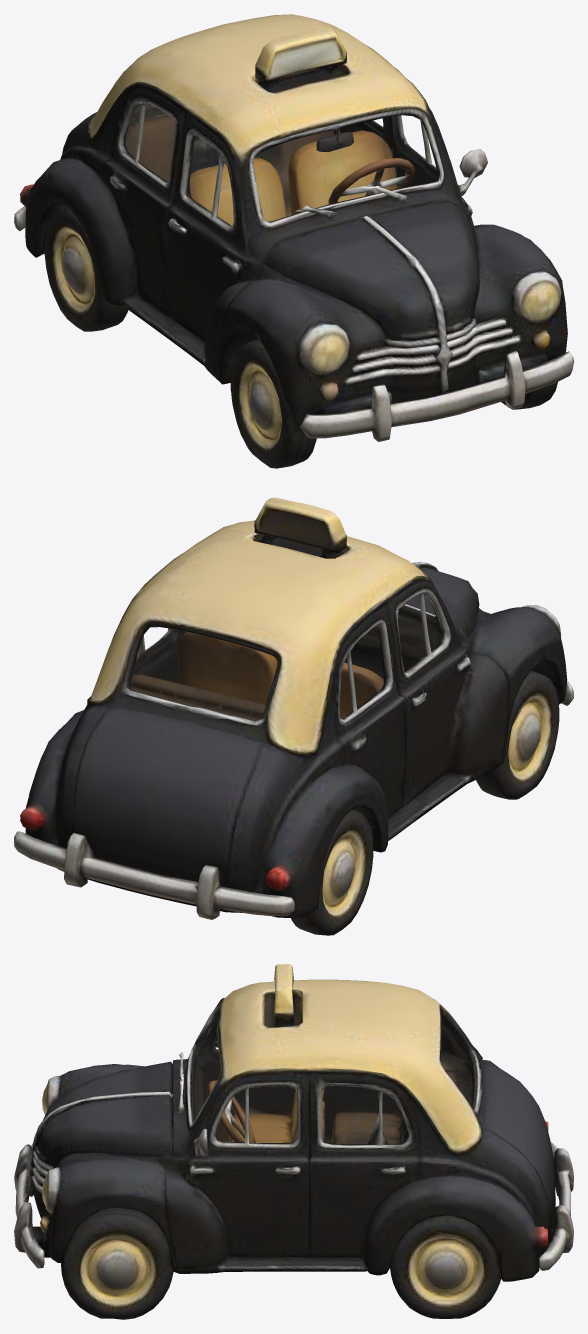
File: car-01-taxi.glb
3 renders of one model, top to bottom at view 1: azimuth 30°, elevation 25°; view 2: azimuth 150°, elevation 25°; view 3: azimuth 270°, elevation 25°, orthographic. The views are drawn at different scales.
Visible parts, largest first — view 1: tripo_node_bc22fc9d-621a-4ebe-ac34-a5c48a251147; view 2: tripo_node_bc22fc9d-621a-4ebe-ac34-a5c48a251147; view 3: tripo_node_bc22fc9d-621a-4ebe-ac34-a5c48a251147.
Boxes of the visible parts, x1,y1,x2,y2 form: tripo_node_bc22fc9d-621a-4ebe-ac34-a5c48a251147: (14,14,573,468); tripo_node_bc22fc9d-621a-4ebe-ac34-a5c48a251147: (14,497,573,935); tripo_node_bc22fc9d-621a-4ebe-ac34-a5c48a251147: (14,964,573,1319).
Size of the model in its own units: 0.5224 by 0.5698 by 1.
Materials: 1 (1 with a texture image).
